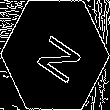N_NW: (27, 25, 83, 85)
